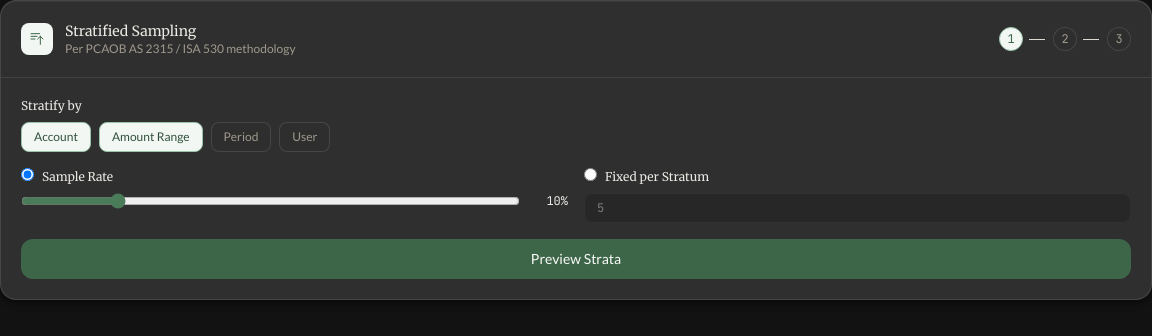
SamplingPanel › shows strata table in preview step
What coordinates should you click on to do the following:
click the button "Preview Strata"
I would click on:
 (576, 259)
Its box is [21,239,1131,279].
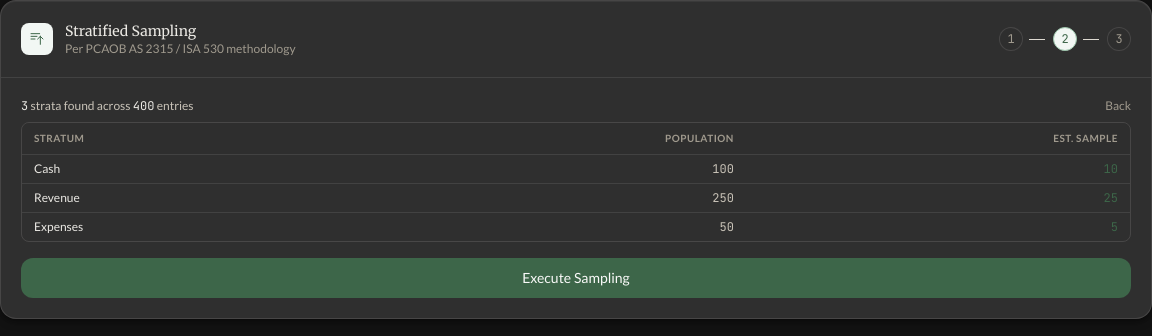
expect the text "Cash" is shown: met, box [22,154,344,184]
expect the text "Revenue" is shown: met, box [22,184,344,212]
expect the text "Expenses" is shown: met, box [22,212,344,241]
